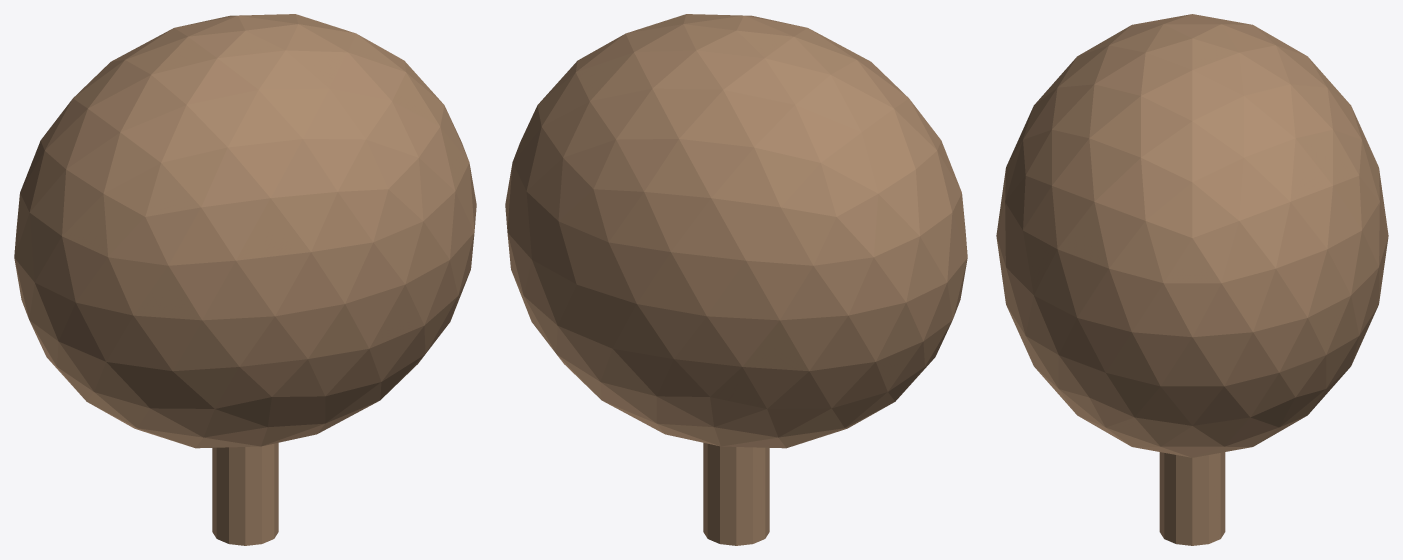
File: Tree_4.glb
3 renders of one model, left to right at view 1: azimuth 30°, elevation 25°; view 2: azimuth 150°, elevation 25°; view 3: azimuth 270°, elevation 25°, orthographic.
Parts seen in each view (by area): view 1: Tree_4; view 2: Tree_4; view 3: Tree_4.
Boxes of the visible parts, x1,y1,x2,y2 form: Tree_4: (14, 14, 476, 545); Tree_4: (505, 14, 967, 545); Tree_4: (996, 14, 1388, 545).
Bounding box in the file's own units: 2.2 × 2.5 × 1.8.
